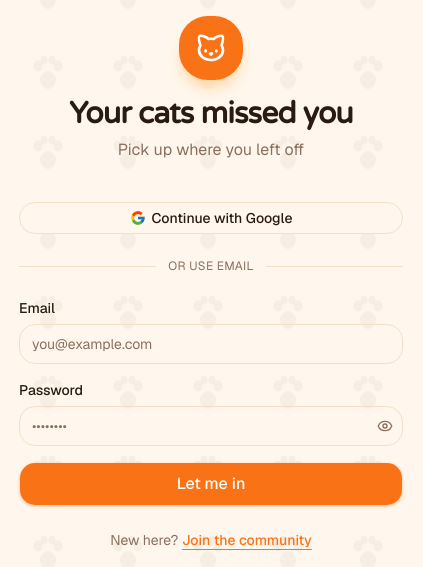
it: LoginPage › disables submit button while loading
Type "user@example.com" into the field labelled "Email".
click(211, 344); type("user@example.com")  # box [19,324,403,364]
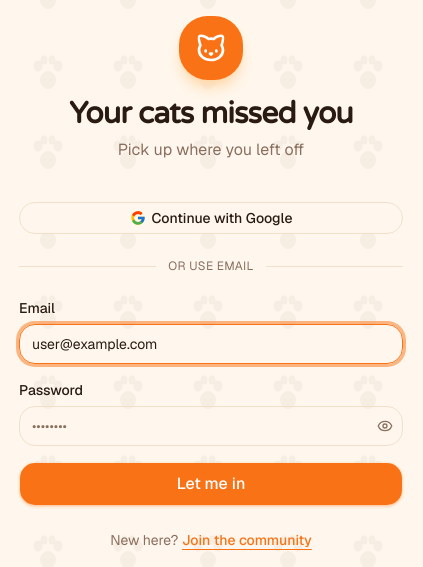
Type "secret123" into the password field labelled "Password".
click(211, 426); type("secret123")  # box [19,406,403,446]
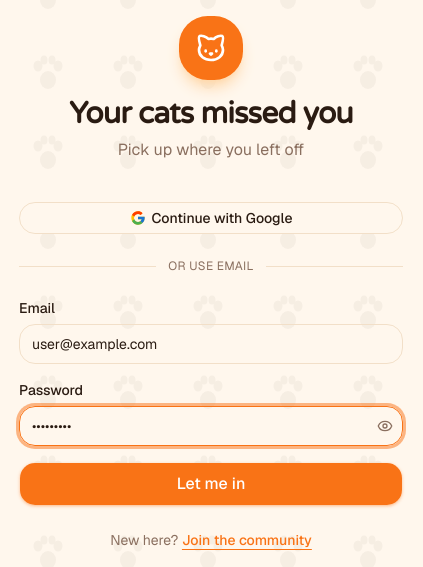
Click the button "Let me in".
click(211, 484)  # box [19,462,403,506]
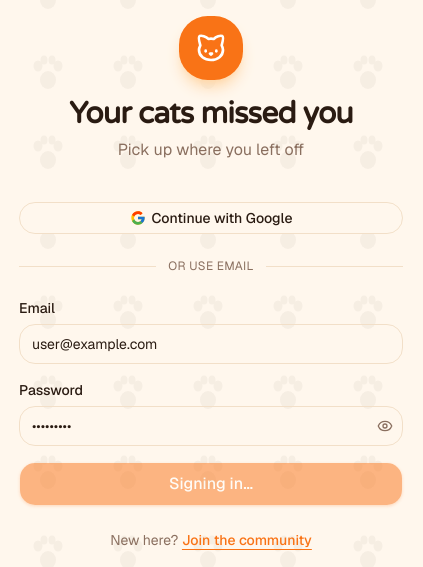
Expected: the button "Signing in…" is disabled, [19,462,403,506]
